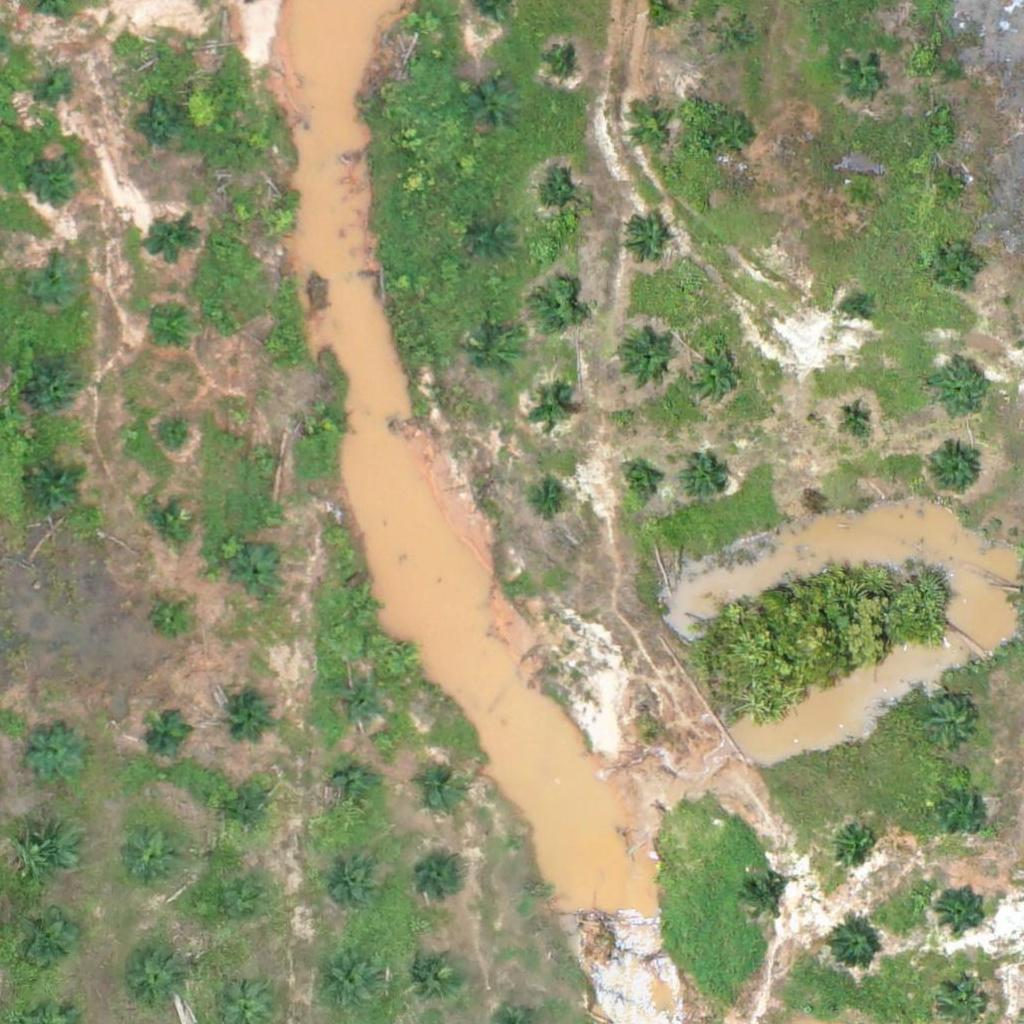Kelapa_Sawit: (203, 879, 266, 942), (318, 855, 381, 918), (25, 255, 88, 318), (316, 952, 379, 1015), (683, 344, 746, 407), (14, 911, 76, 974), (125, 826, 187, 889), (24, 724, 86, 787), (124, 947, 186, 1010), (403, 943, 465, 1006), (923, 440, 985, 503), (927, 358, 989, 421), (20, 824, 82, 887), (617, 326, 679, 389), (32, 362, 82, 413), (31, 465, 81, 516), (713, 109, 763, 160), (926, 701, 976, 752), (937, 784, 987, 835), (937, 882, 987, 933), (933, 239, 983, 290), (142, 497, 192, 548), (626, 103, 676, 154), (33, 153, 83, 203), (419, 854, 469, 904), (226, 685, 276, 735), (144, 710, 194, 760), (333, 680, 383, 730), (232, 549, 282, 599), (329, 765, 379, 815), (415, 764, 465, 814), (828, 922, 878, 972), (831, 818, 881, 868), (740, 874, 790, 924), (223, 789, 273, 839), (534, 174, 584, 224), (532, 283, 582, 333), (621, 216, 671, 266), (681, 452, 731, 502), (146, 217, 196, 267), (144, 307, 194, 357), (841, 49, 891, 99), (468, 82, 518, 132), (137, 102, 187, 152), (470, 333, 520, 383), (341, 587, 379, 625), (153, 598, 191, 636), (531, 388, 569, 426), (532, 479, 570, 517), (619, 462, 657, 500), (245, 439, 283, 477), (255, 326, 293, 364), (261, 201, 299, 239), (39, 61, 77, 99), (838, 399, 875, 437), (309, 401, 346, 439), (842, 175, 880, 212), (716, 20, 754, 57), (472, 221, 509, 259), (935, 169, 972, 207), (155, 420, 192, 457), (844, 296, 869, 321), (551, 50, 576, 75)
